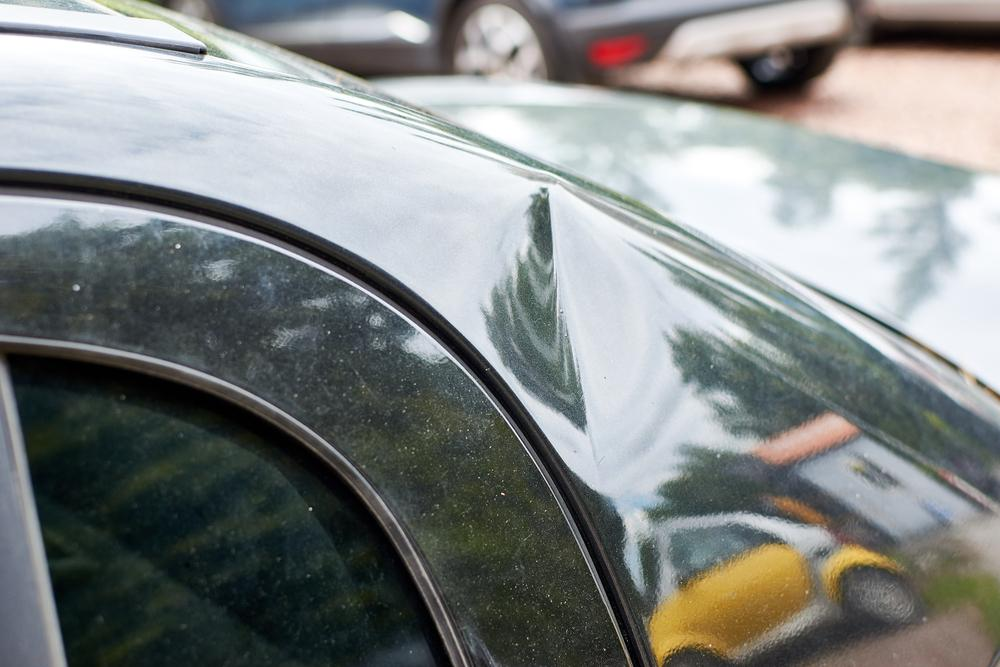dent: (482, 183, 688, 484)
